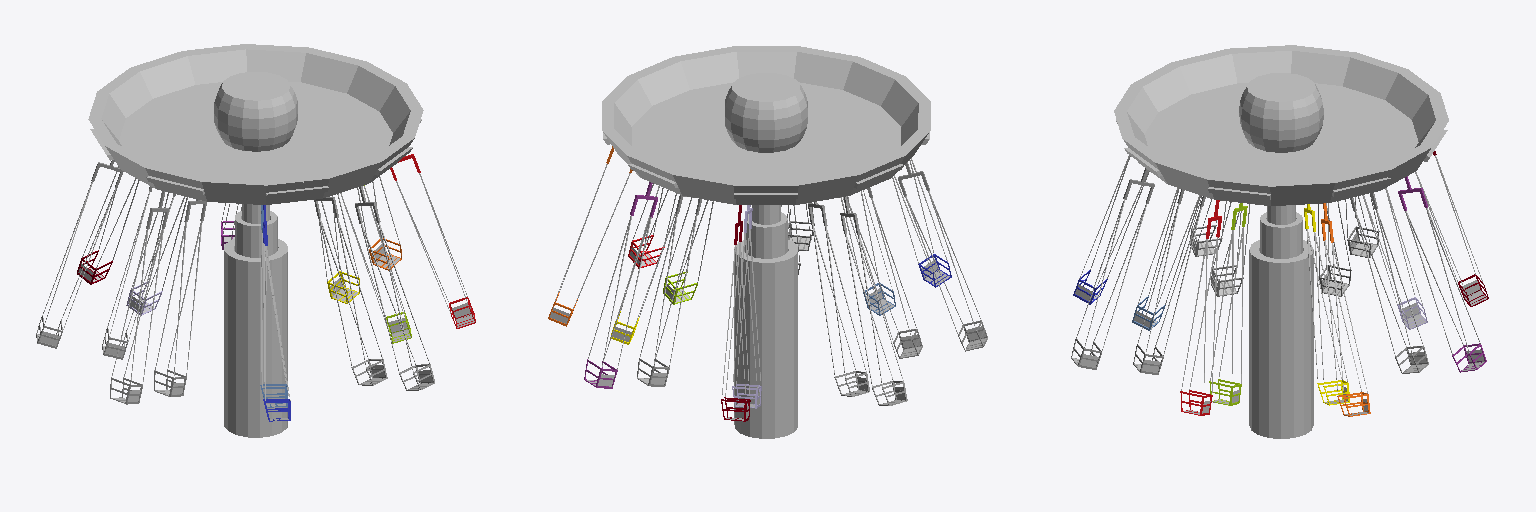
The picture shows the model from 3 angles: view 1: azimuth 30°, elevation 25°; view 2: azimuth 150°, elevation 25°; view 3: azimuth 270°, elevation 25°; orthographic projection.
Parts seen in each view (by area): view 1: Top_Cylinder.021, Centro_Cylinder.022, Chair4_Cylinder.003, Chair1_Cylinder.000, Chair3_Cylinder.002, Chair17_Cylinder.001, Chair16_Cylinder.015, Chair8_Cylinder.007, Chair6_Cylinder.005, Chair15_Cylinder.014, Chair7_Cylinder.006, Chair14_Cylinder.013 (+4 smaller); view 2: Top_Cylinder.021, Centro_Cylinder.022, Chair12_Cylinder.011, Chair16_Cylinder.015, Chair1_Cylinder.000, Chair15_Cylinder.014, Chair11_Cylinder.010, Chair14_Cylinder.013, Chair13_Cylinder.012, Chair17_Cylinder.001, Chair6_Cylinder.005, Chair5_Cylinder.004 (+4 smaller); view 3: Top_Cylinder.021, Centro_Cylinder.022, Chair12_Cylinder.011, Chair4_Cylinder.003, Chair8_Cylinder.007, Chair7_Cylinder.006, Chair11_Cylinder.010, Chair10_Cylinder.009, Chair3_Cylinder.002, Chair9_Cylinder.008, Chair14_Cylinder.013, Chair13_Cylinder.012 (+5 smaller).
Part boxes in pixels (x1,y1,x2,y2): Top_Cylinder.021: (88, 44, 423, 204); Centro_Cylinder.022: (224, 204, 287, 437); Chair4_Cylinder.003: (355, 186, 434, 390); Chair1_Cylinder.000: (110, 191, 168, 404); Chair3_Cylinder.002: (314, 197, 387, 385); Chair17_Cylinder.001: (154, 199, 206, 396); Chair16_Cylinder.015: (36, 160, 123, 348); Chair8_Cylinder.007: (390, 154, 475, 328); Chair6_Cylinder.005: (263, 205, 290, 421); Chair15_Cylinder.014: (102, 186, 175, 359); Chair7_Cylinder.006: (340, 185, 411, 343); Chair14_Cylinder.013: (77, 166, 139, 284); Top_Cylinder.021: (602, 46, 930, 204); Centro_Cylinder.022: (734, 205, 797, 438); Chair12_Cylinder.011: (584, 182, 657, 388); Chair16_Cylinder.015: (840, 196, 907, 405); Chair1_Cylinder.000: (898, 162, 987, 351); Chair15_Cylinder.014: (808, 202, 869, 396); Chair11_Cylinder.010: (637, 195, 701, 386); Chair14_Cylinder.013: (721, 205, 750, 421); Chair13_Cylinder.012: (732, 205, 761, 408); Chair17_Cylinder.001: (847, 188, 922, 358); Chair6_Cylinder.005: (892, 158, 951, 287); Chair5_Cylinder.004: (840, 190, 895, 315); Top_Cylinder.021: (1114, 45, 1448, 205); Centro_Cylinder.022: (1249, 205, 1313, 438); Chair12_Cylinder.011: (1398, 176, 1486, 372); Chair4_Cylinder.003: (1071, 168, 1214, 402); Chair8_Cylinder.007: (1180, 200, 1221, 415); Chair7_Cylinder.006: (1209, 203, 1247, 405); Chair11_Cylinder.010: (1350, 193, 1428, 373); Chair10_Cylinder.009: (1321, 203, 1370, 416); Chair3_Cylinder.002: (1133, 189, 1205, 374); Chair9_Cylinder.008: (1304, 204, 1349, 405); Chair14_Cylinder.013: (1415, 151, 1488, 306); Chair13_Cylinder.012: (1362, 188, 1427, 329).
Size of the model in its own units: 10.59 by 9.45 by 10.59.
33 materials, 9 textured.